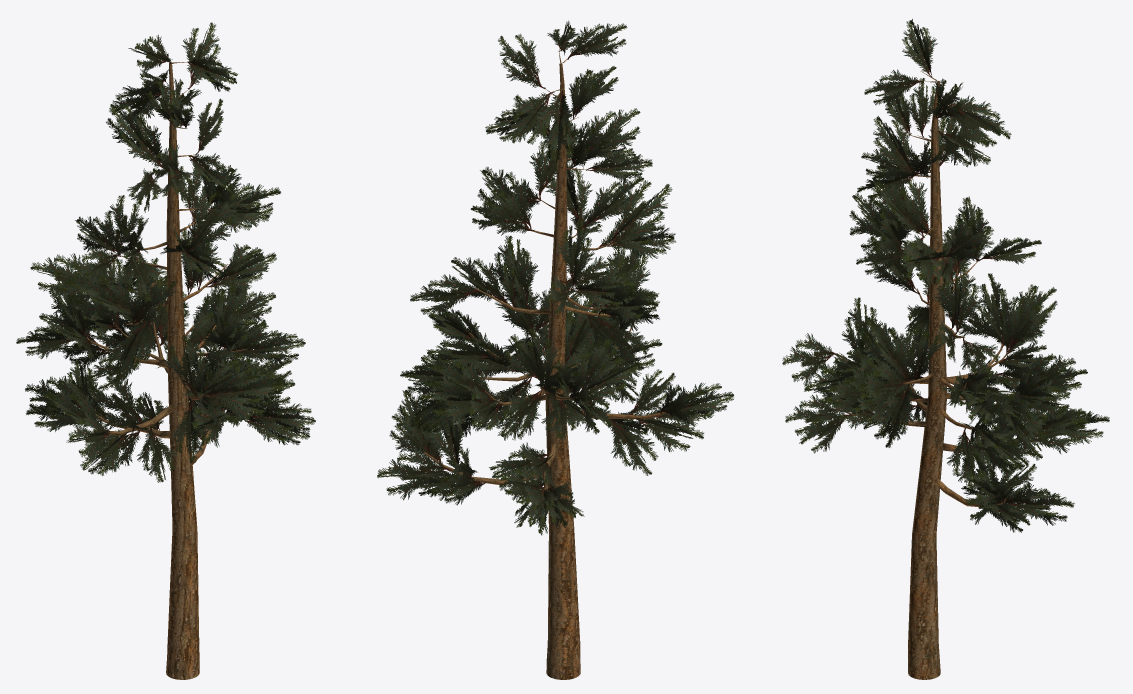
The model's file is Tree - RedWood 5-BrwudQNU.glb.
3 renders of one model, left to right at view 1: azimuth 30°, elevation 25°; view 2: azimuth 150°, elevation 25°; view 3: azimuth 270°, elevation 25°, orthographic. The views are drawn at different scales.
Parts seen in each view (by area): view 1: RedWood 5; view 2: RedWood 5; view 3: RedWood 5.
Boxes of the visible parts, x1,y1,x2,y2 form: RedWood 5: [16, 22, 315, 679]; RedWood 5: [377, 20, 734, 679]; RedWood 5: [782, 19, 1109, 679].
Bounding box in the file's own units: 22.22 × 45.58 × 22.56.
Materials: 2 (2 with a texture image).
